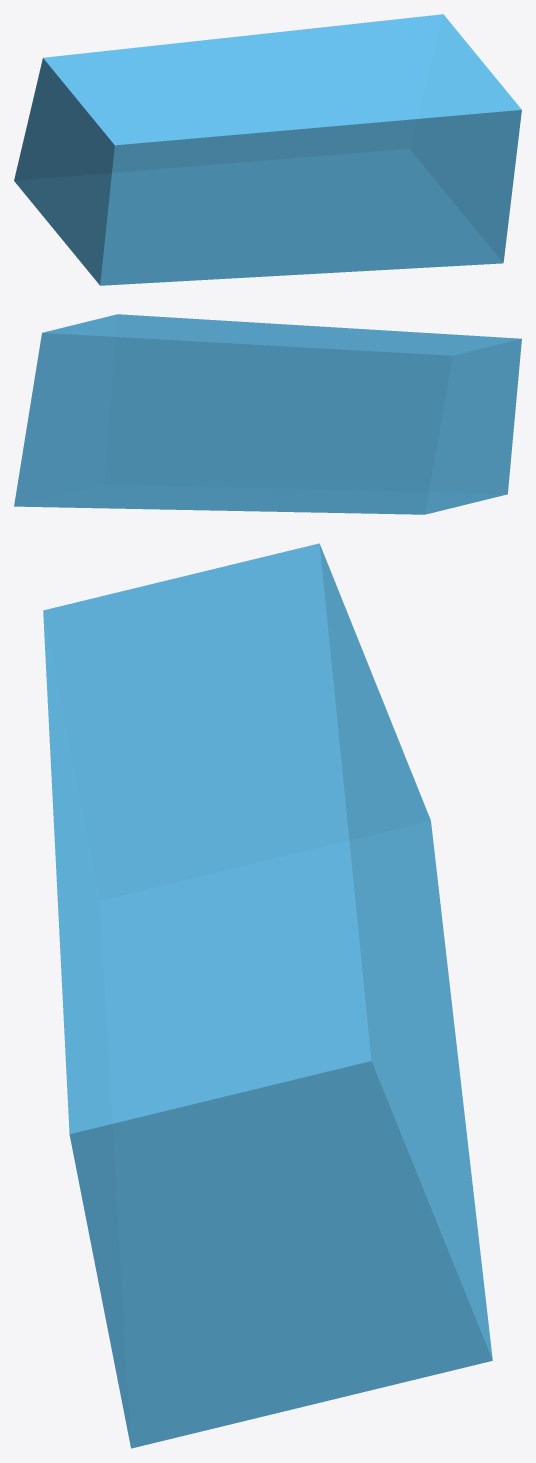
Rendered from Event_421115418_HErechit_58.fbx.
The picture shows the model from 3 angles, top to bottom: view 1: azimuth 30°, elevation 25°; view 2: azimuth 150°, elevation 25°; view 3: azimuth 270°, elevation 25°; orthographic projection. The views are drawn at different scales.
Visible parts, largest first — view 1: Model; view 2: Model; view 3: Model.
Part boxes in pixels (x1,y1,x2,y2): Model: (14,14,521,285); Model: (14,314,521,514); Model: (43,543,492,1448).
Size of the model in its own units: 0.9408 by 0.5866 by 0.4605.
